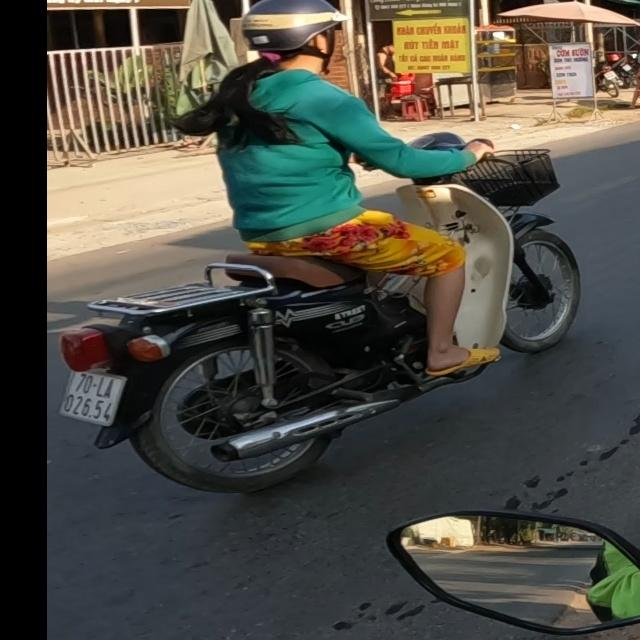license-plate: (58, 368, 127, 429)
